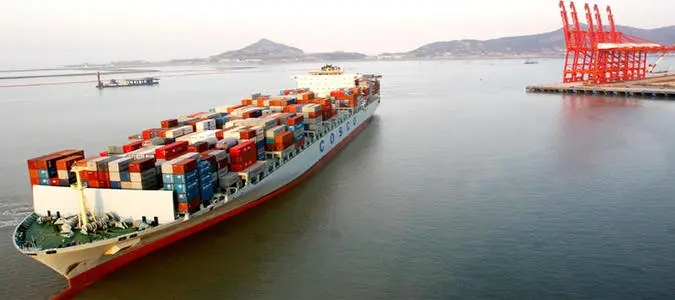Cargoship: (10, 64, 386, 283)
otherboat: (90, 68, 161, 93)
